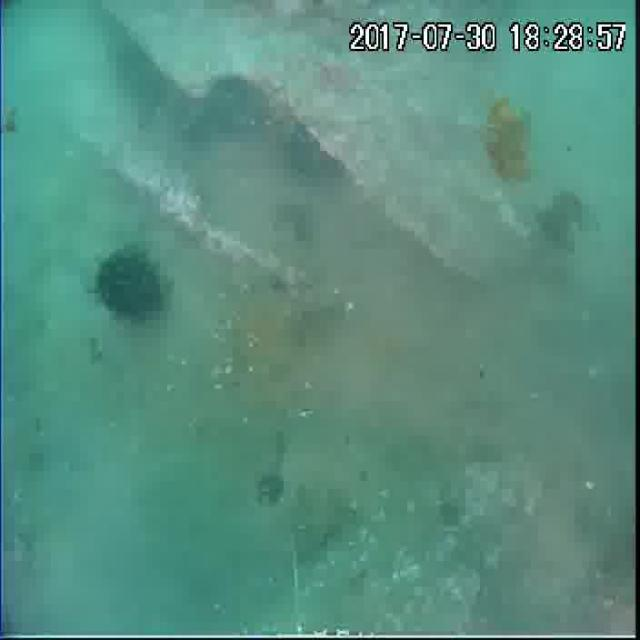echinus: (93, 239, 162, 323), (208, 73, 276, 144), (286, 119, 344, 184)
